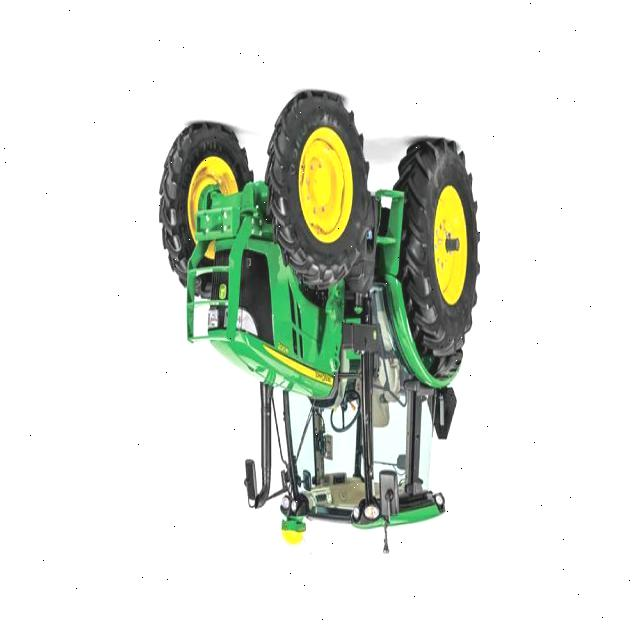Tratores - v5 YOLO V8L 2024-11-13: (154, 72, 492, 562)
